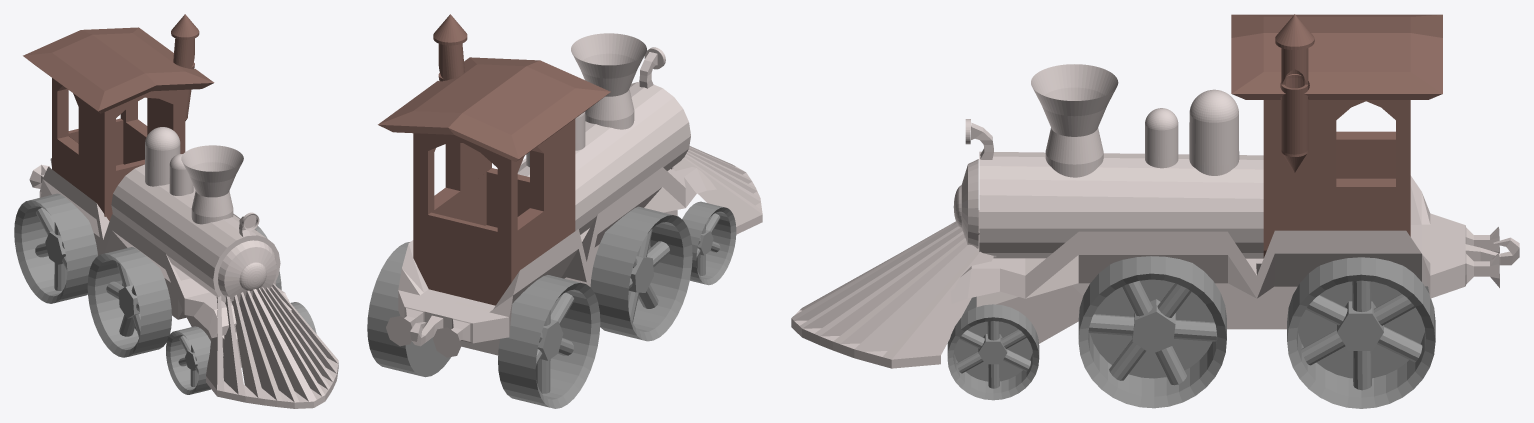
The model's file is trem.glb.
The picture shows the model from 3 angles, left to right: view 1: azimuth 30°, elevation 25°; view 2: azimuth 150°, elevation 25°; view 3: azimuth 270°, elevation 25°; orthographic projection. The views are drawn at different scales.
Visible parts, largest first — view 1: cabine, tira neve, cilindro corpo, rodas meio, rodas traseira, base, vapor, rodas frente, tampa, cilindro2, cilindro1, farol; view 2: cabine, rodas traseira, base, rodas meio, cilindro corpo, vapor, rodas frente, tira neve, farol, cilindro1; view 3: cabine, base, cilindro corpo, rodas meio, rodas traseira, tira neve, rodas frente, vapor, cilindro2, cilindro1, tampa, farol.
Part boxes in pixels (x1,y1,x2,y2): cabine: [23, 14, 214, 220]; tira neve: [206, 283, 338, 408]; cilindro corpo: [111, 164, 280, 303]; rodas meio: [87, 226, 281, 357]; rodas traseira: [14, 193, 97, 303]; base: [29, 158, 291, 367]; vapor: [181, 145, 243, 224]; rodas frente: [166, 302, 316, 394]; tampa: [218, 240, 276, 302]; cilindro2: [145, 127, 180, 186]; cilindro1: [169, 154, 193, 195]; farol: [239, 212, 259, 237]; cabine: [378, 14, 610, 305]; rodas traseira: [367, 242, 600, 408]; base: [386, 158, 716, 357]; rodas meio: [590, 206, 692, 341]; cilindro corpo: [517, 82, 690, 234]; vapor: [571, 33, 646, 129]; rodas frente: [682, 201, 736, 285]; tira neve: [671, 146, 762, 234]; farol: [639, 47, 665, 88]; cilindro1: [575, 111, 585, 150]; cabine: [1231, 14, 1442, 257]; base: [951, 175, 1519, 343]; cilindro corpo: [979, 151, 1263, 258]; rodas meio: [1078, 256, 1226, 408]; rodas traseira: [1287, 257, 1435, 408]; tira neve: [791, 210, 996, 368]; rodas frente: [947, 296, 1039, 400]; vapor: [1031, 64, 1118, 177]; cilindro2: [1189, 89, 1239, 175]; cilindro1: [1145, 108, 1178, 168]; tampa: [953, 159, 978, 248]; farol: [965, 119, 993, 159].
Bounding box in the file's own units: 11.96 × 22.17 × 38.23.
